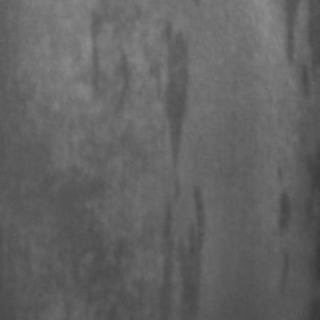inclusion: (148, 9, 206, 314), (256, 158, 300, 298), (84, 5, 136, 115), (272, 0, 316, 100)
